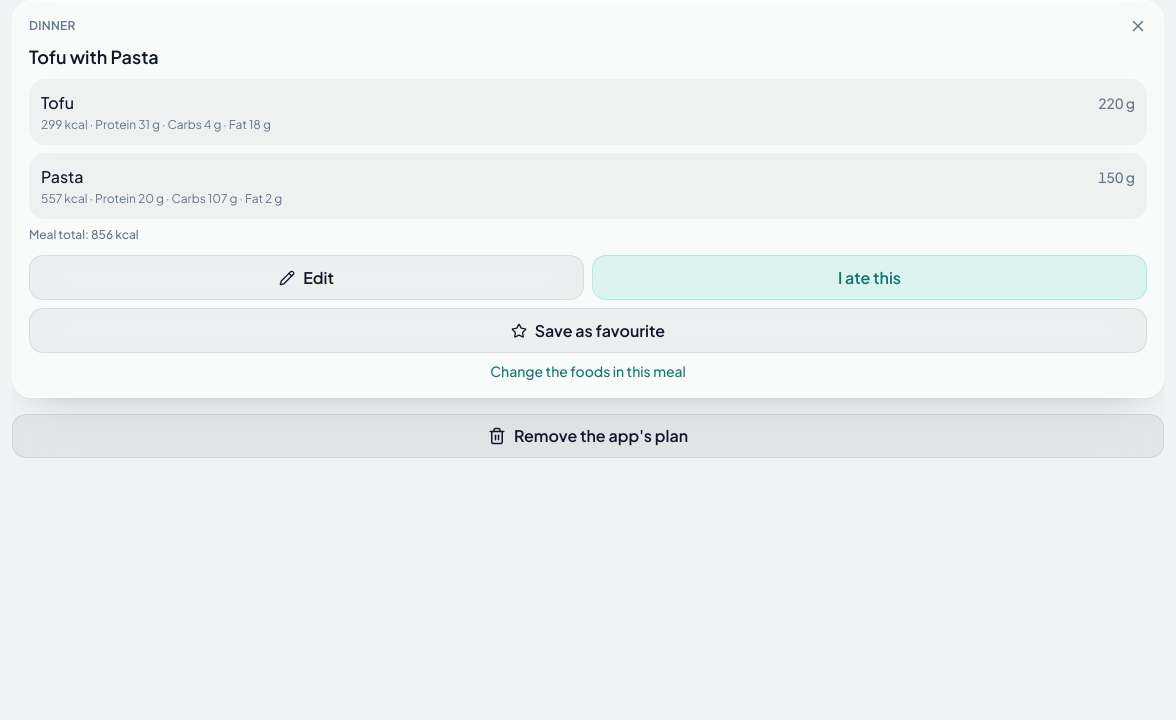
Test: meal editor, held amounts › shows a food already held, matching the pick case-insensitively
Click the button "Edit": (306, 278) x1=29 y1=255 x2=584 y2=300
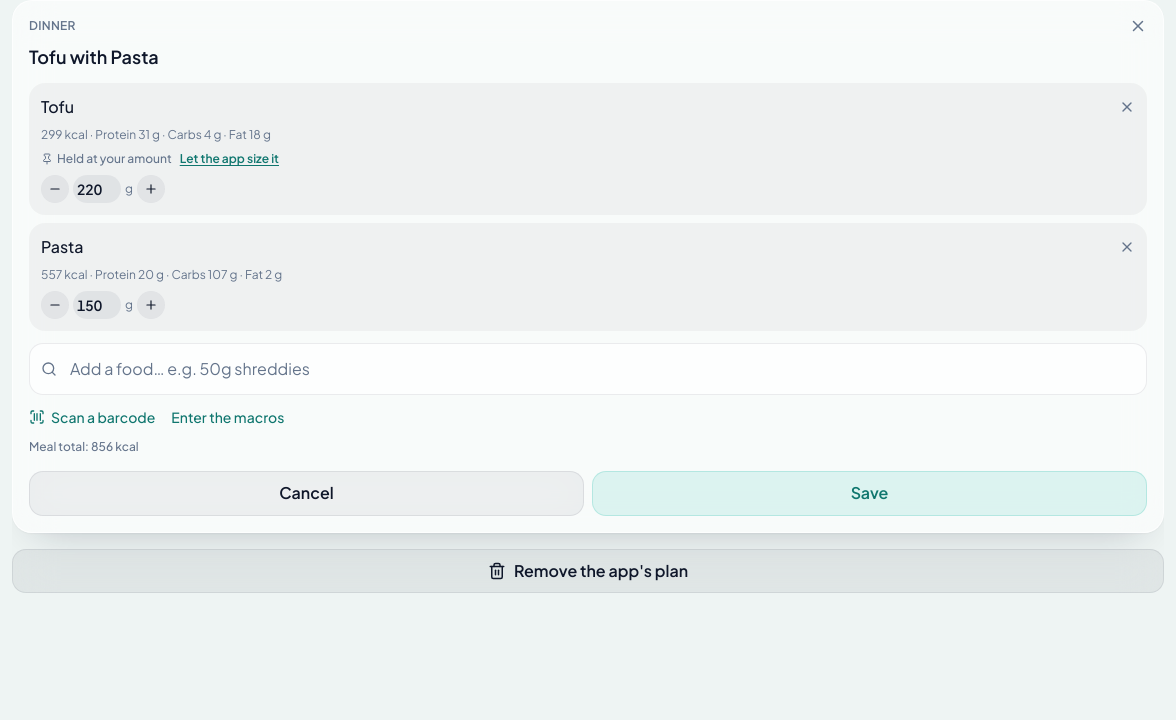
Expected: the text "Held at your amount" is shown once, x1=41 y1=151 x2=172 y2=167
